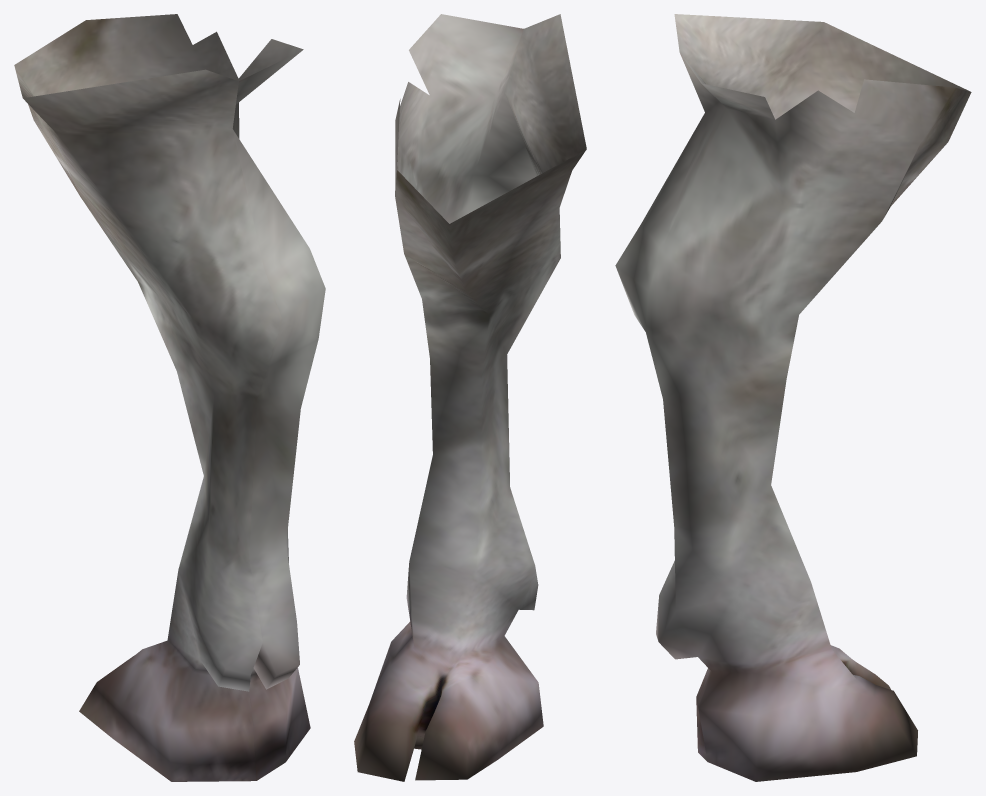
Rendered from cow_back_left_leg.obj.
3 views of the same model, side by side, from view 1: azimuth 30°, elevation 25°; view 2: azimuth 150°, elevation 25°; view 3: azimuth 270°, elevation 25° (orthographic). The views are drawn at different scales.
Visible parts, largest first — view 1: back_right_leg; view 2: back_right_leg; view 3: back_right_leg.
Boxes of the visible parts, left/top/right/bottom form: back_right_leg: left=14, top=14, right=325, bottom=781; back_right_leg: left=354, top=14, right=586, bottom=781; back_right_leg: left=615, top=14, right=971, bottom=781.
Bounding box in the file's own units: 1.19 × 3.33 × 1.51.
Materials: 1 (1 with a texture image).
